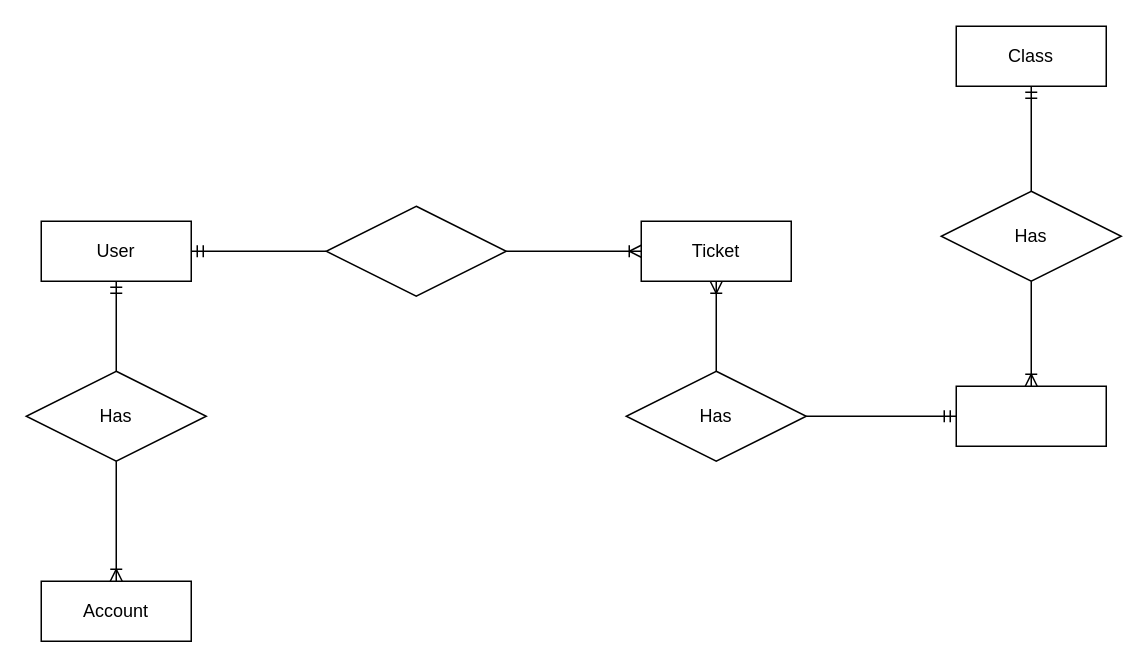
Some shapes in this 1148 by 668 pixel diagram are drawn without their labels. Each missing label, with the centre of its shape:
"Book" goes at pixel 415 250.
"Seat" goes at pixel 1030 415.
